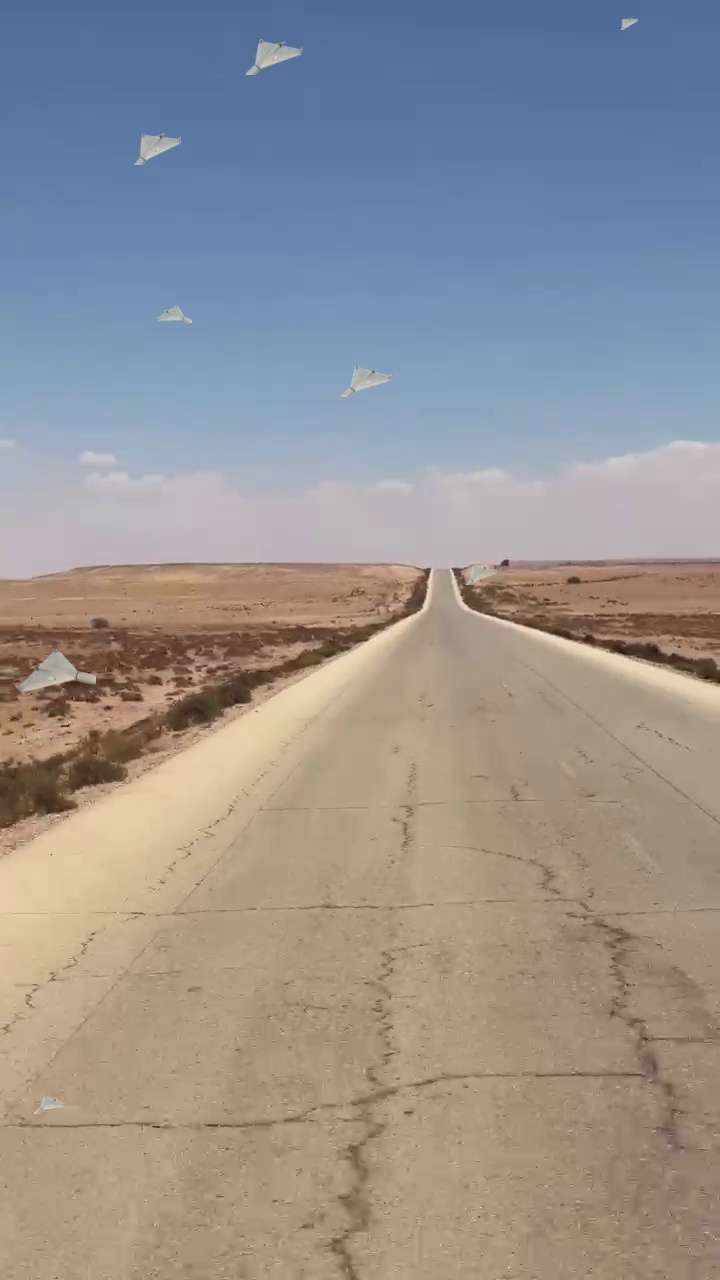shahed: (13, 649, 96, 698), (240, 38, 304, 76), (126, 130, 184, 164), (338, 365, 393, 397), (462, 564, 498, 586), (156, 305, 192, 325), (34, 1095, 66, 1113), (616, 18, 638, 30)
